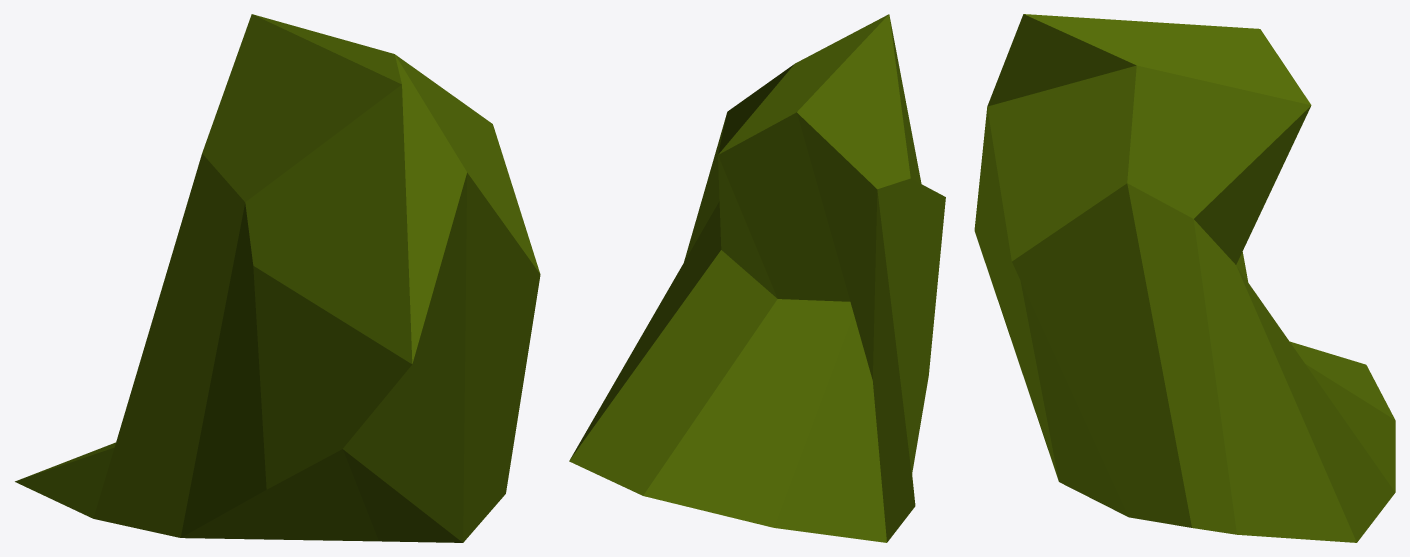
Rendered from goop.fbx.
The picture shows the model from 3 angles, left to right: view 1: azimuth 30°, elevation 25°; view 2: azimuth 150°, elevation 25°; view 3: azimuth 270°, elevation 25°; orthographic projection. The views are drawn at different scales.
Parts seen in each view (by area): view 1: Cube; view 2: Cube; view 3: Cube.
Part boxes in pixels (left/top/right/bottom): Cube: left=15, top=14, right=540, bottom=542; Cube: left=569, top=14, right=945, bottom=542; Cube: left=974, top=14, right=1395, bottom=542.
Size of the model in its own units: 185 by 186 by 210.
